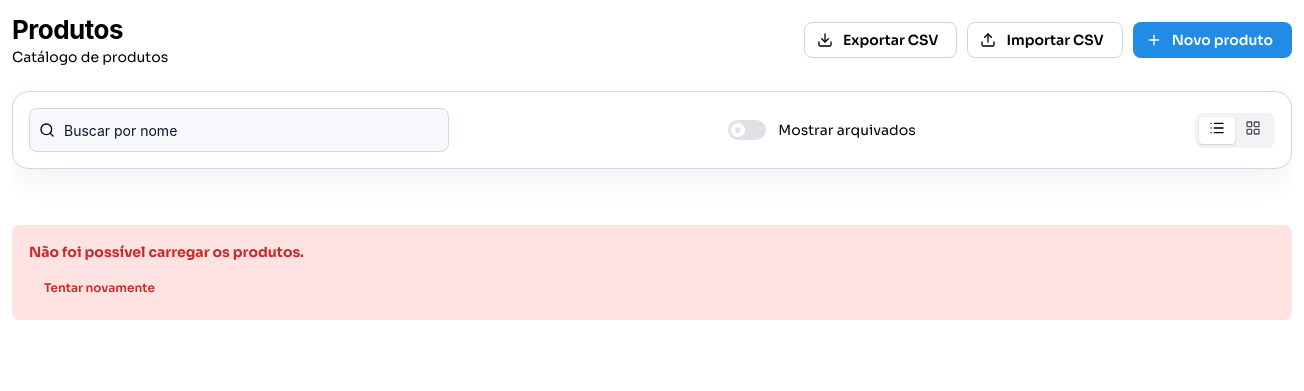
Test case: Produtos states › error, then retry recovers
Check: the text "Não foi possível carregar os produtos." is shown, box x1=29 y1=242 x2=304 y2=263
What coordinates should you click on to do the following:
click the button "Tentar novamente"
I would click on:
 (99, 288)
Its box is x1=29 y1=273 x2=170 y2=303.
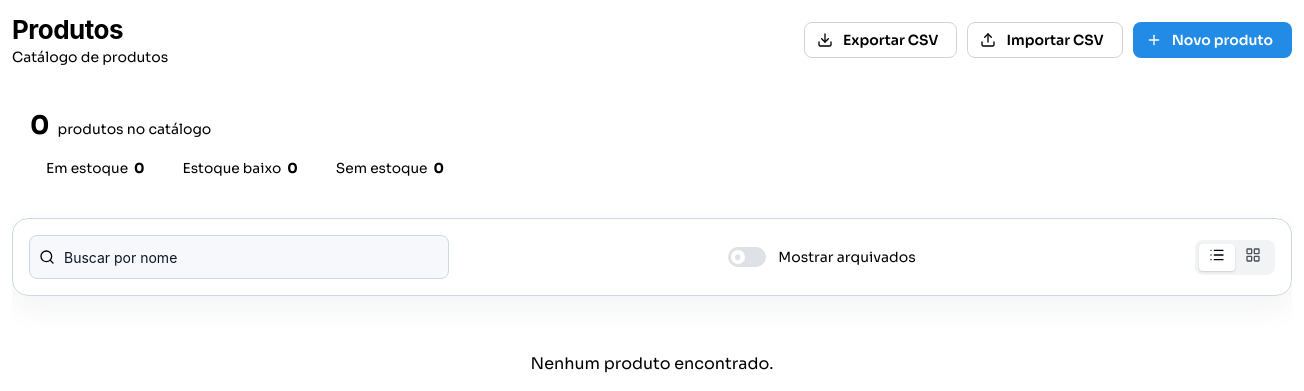
Check: the text "carregar os produtos" is gone
Check: the text "Nenhum produto encontrado." is shown, box x1=531 y1=354 x2=773 y2=374
